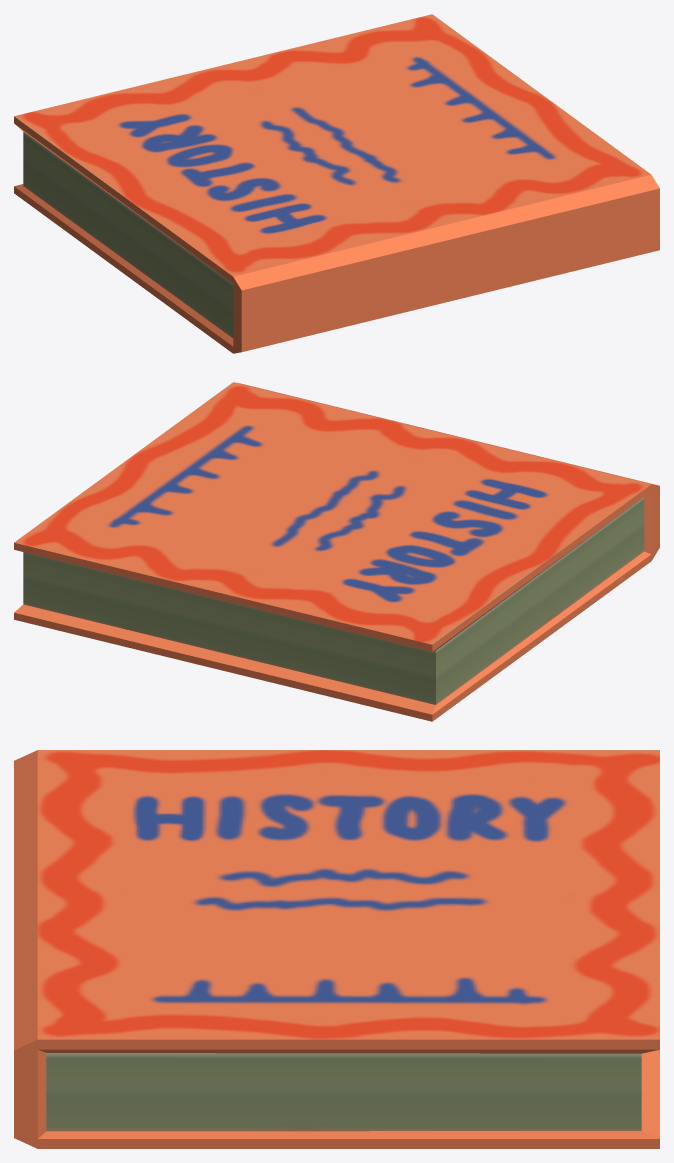
The model's file is history book.fbx.
The picture shows the model from 3 angles, top to bottom: view 1: azimuth 30°, elevation 25°; view 2: azimuth 150°, elevation 25°; view 3: azimuth 270°, elevation 25°; orthographic projection. The views are drawn at different scales.
Visible parts, largest first — view 1: Kocka.013; view 2: Kocka.013; view 3: Kocka.013.
Boxes of the visible parts, x1,y1,x2,y2 form: Kocka.013: (14, 14, 659, 353); Kocka.013: (14, 382, 659, 721); Kocka.013: (14, 750, 659, 1148).
Size of the model in its own units: 182 by 31.98 by 171.
Materials: 1 (1 with a texture image).
